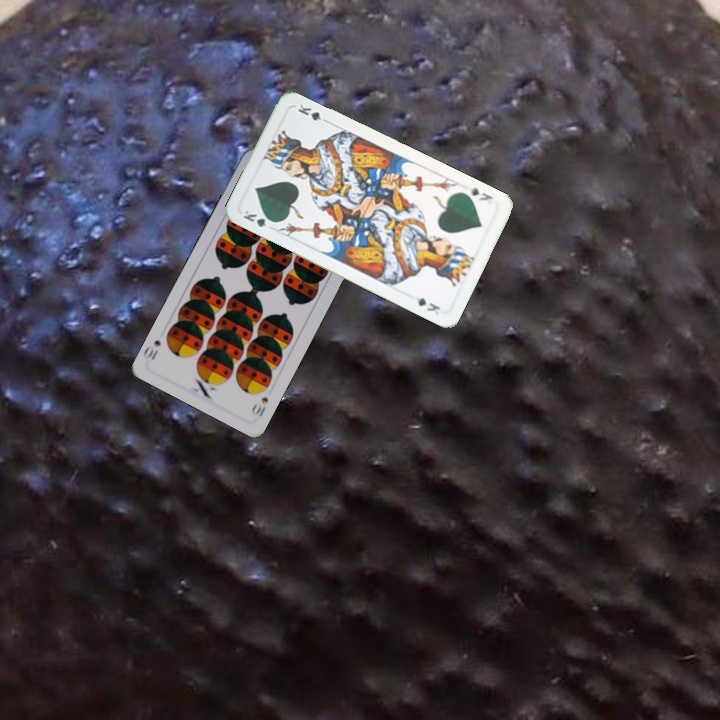GK: (239, 206, 278, 230), (464, 183, 496, 204)
S10: (248, 393, 271, 419)
